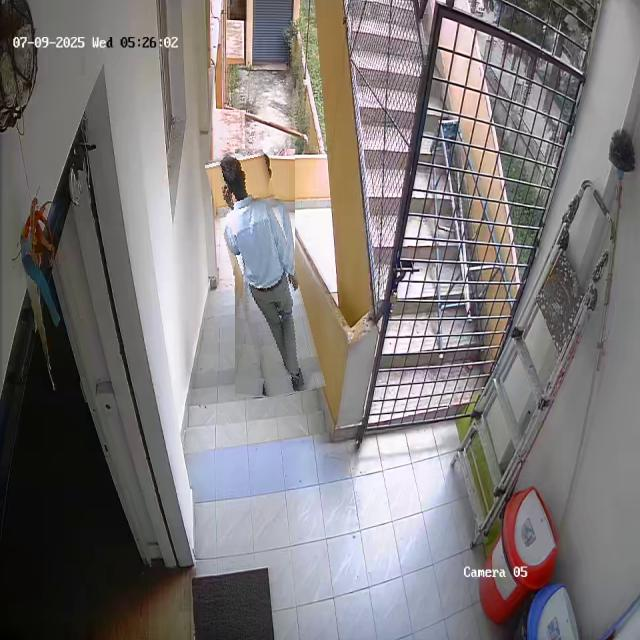person: (219, 148, 311, 399)
